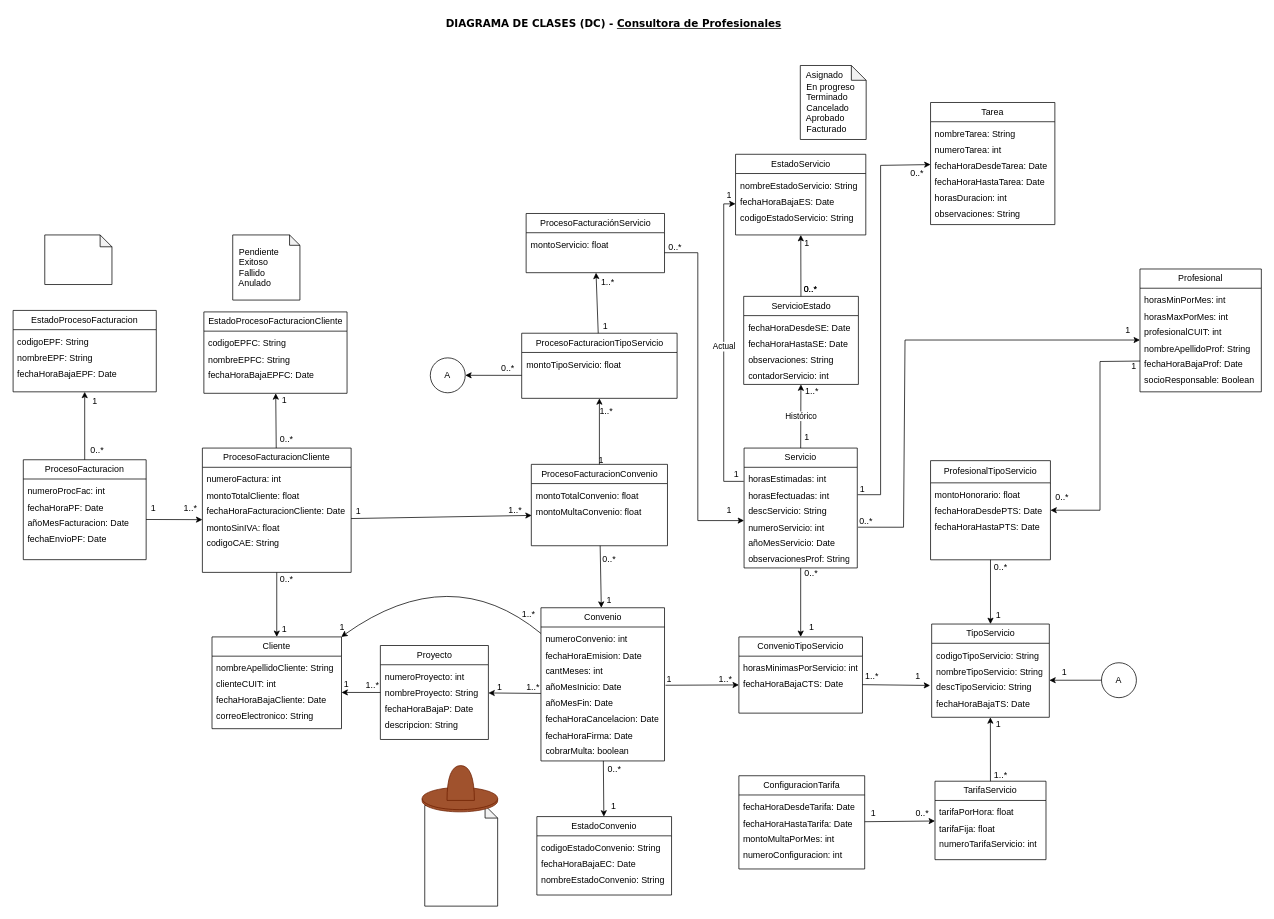
Image size: 1274x919. Some labels were removed from this diagram. The centre of each missing label's shape, as x and y in pixels:
Registrado Aceptado Rechazado Firmado Cancelado En progreso Terminado: the point at 461,855
Simulado Completo Incompleto: the point at 78,259
